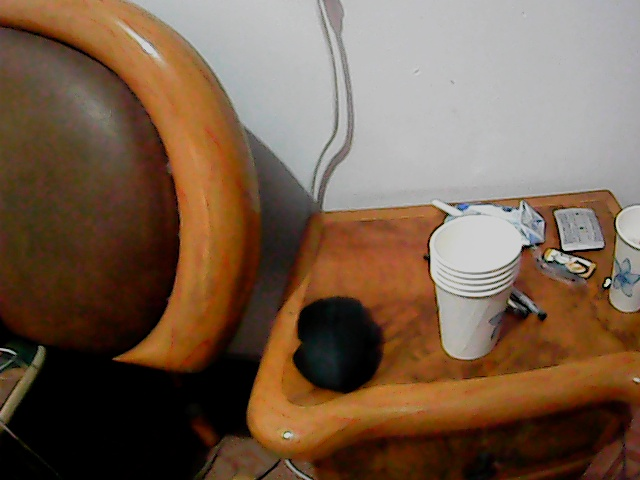cup: (427, 210, 523, 365)
mouse: (290, 291, 381, 395)
